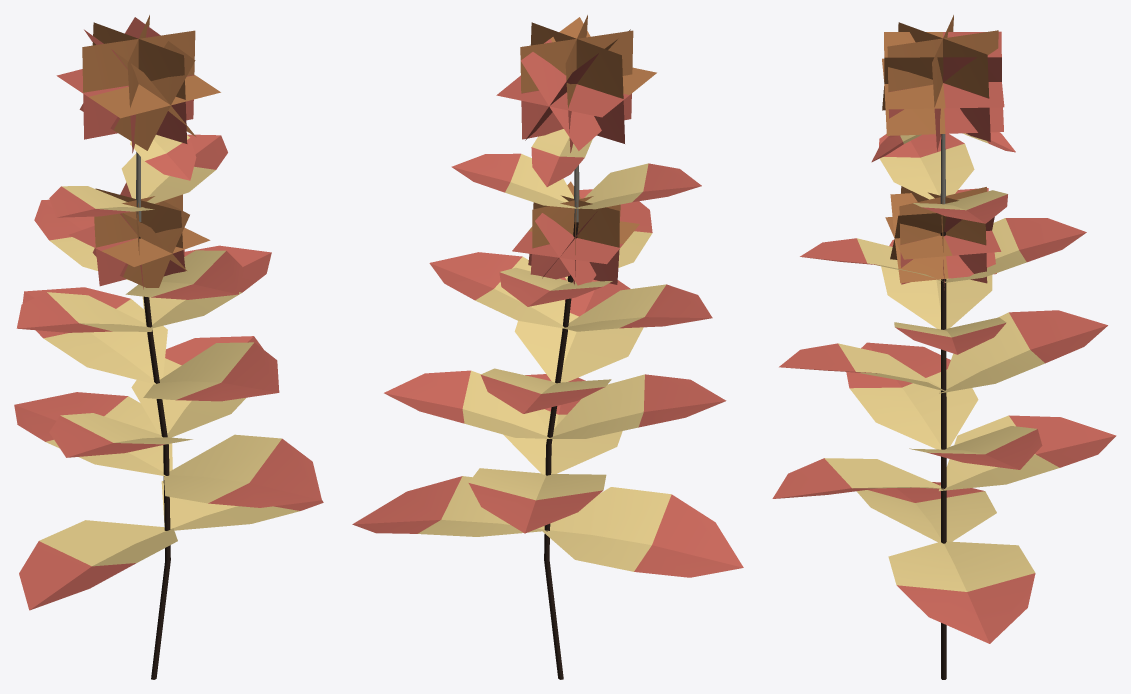
The model's file is itch_assetquest_pond_water_mint_1.glb.
The picture shows the model from 3 angles, left to right: view 1: azimuth 30°, elevation 25°; view 2: azimuth 150°, elevation 25°; view 3: azimuth 270°, elevation 25°; orthographic projection.
Parts seen in each view (by area): view 1: Watermint_1; view 2: Watermint_1; view 3: Watermint_1.
Part boxes in pixels (x1,y1,x2,y2): Watermint_1: (14, 15, 323, 679); Watermint_1: (352, 15, 743, 679); Watermint_1: (772, 15, 1116, 679).
Size of the model in its own units: 0.96 by 1.74 by 0.8577.
